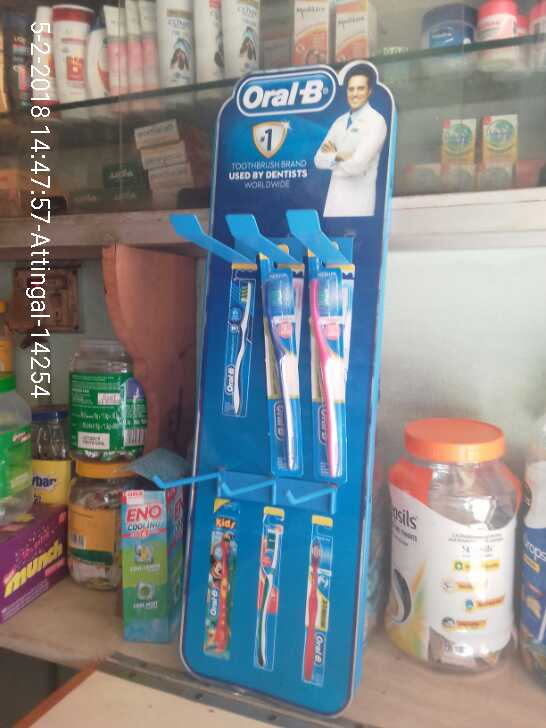oralb: (255, 247, 304, 478), (306, 248, 351, 484)
